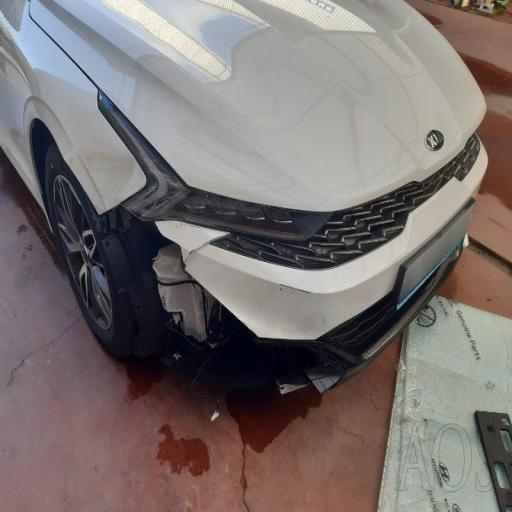broken: (128, 192, 400, 382)
